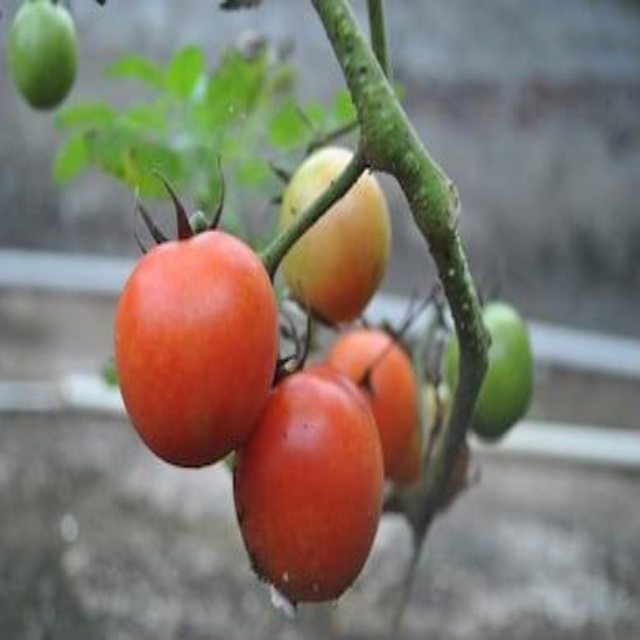tomato: (106, 235, 285, 465), (224, 375, 383, 599), (270, 158, 395, 327), (331, 320, 438, 477), (446, 305, 551, 442), (12, 5, 98, 125)
